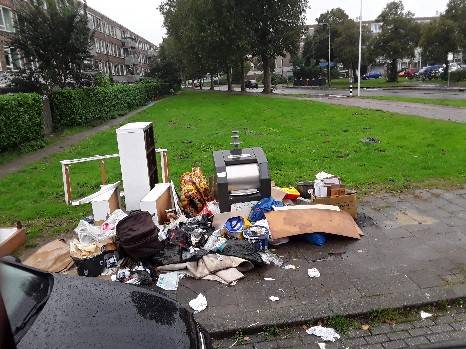Container: (213, 145, 279, 203)
Papier: (272, 206, 357, 237)
Rest: (109, 185, 165, 263), (169, 201, 220, 284), (208, 205, 281, 250), (121, 130, 168, 197), (73, 144, 113, 220), (297, 168, 360, 202), (62, 220, 103, 265), (184, 171, 218, 211), (39, 242, 78, 274)
